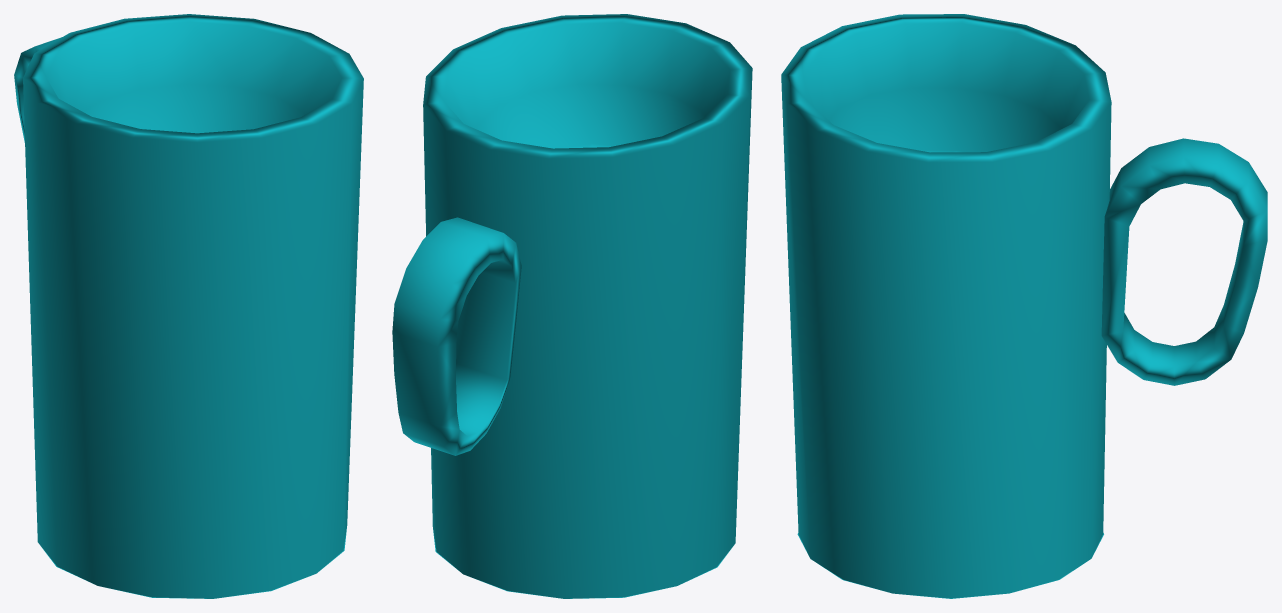
Rendered from Taza08.fbx.
3 views of the same model, side by side, from view 1: azimuth 30°, elevation 25°; view 2: azimuth 150°, elevation 25°; view 3: azimuth 270°, elevation 25° (orthographic). The views are drawn at different scales.
Parts seen in each view (by area): view 1: Taza08; view 2: Taza08; view 3: Taza08.
Part boxes in pixels (x1=…): Taza08: x1=14, y1=14, x2=363, y2=598; Taza08: x1=392, y1=14, x2=752, y2=598; Taza08: x1=781, y1=14, x2=1267, y2=598.
Bounding box in the file's own units: 13.33 × 20.16 × 19.64.
